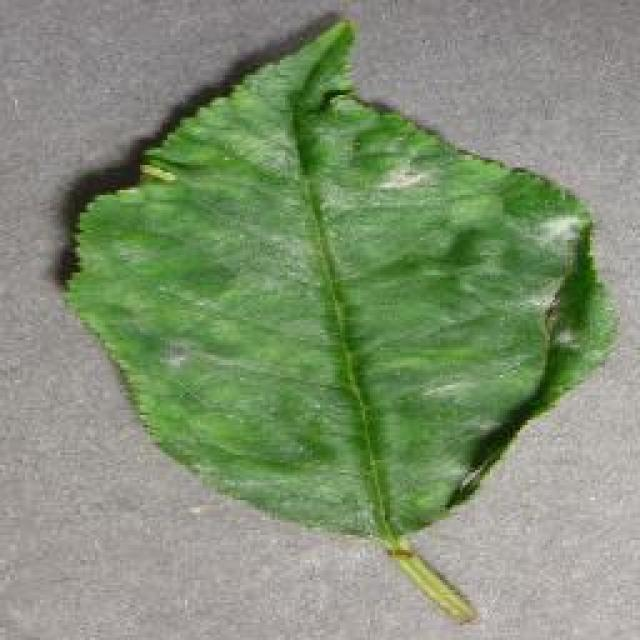Cherry___Powdery_mildew: (47, 0, 625, 635)
